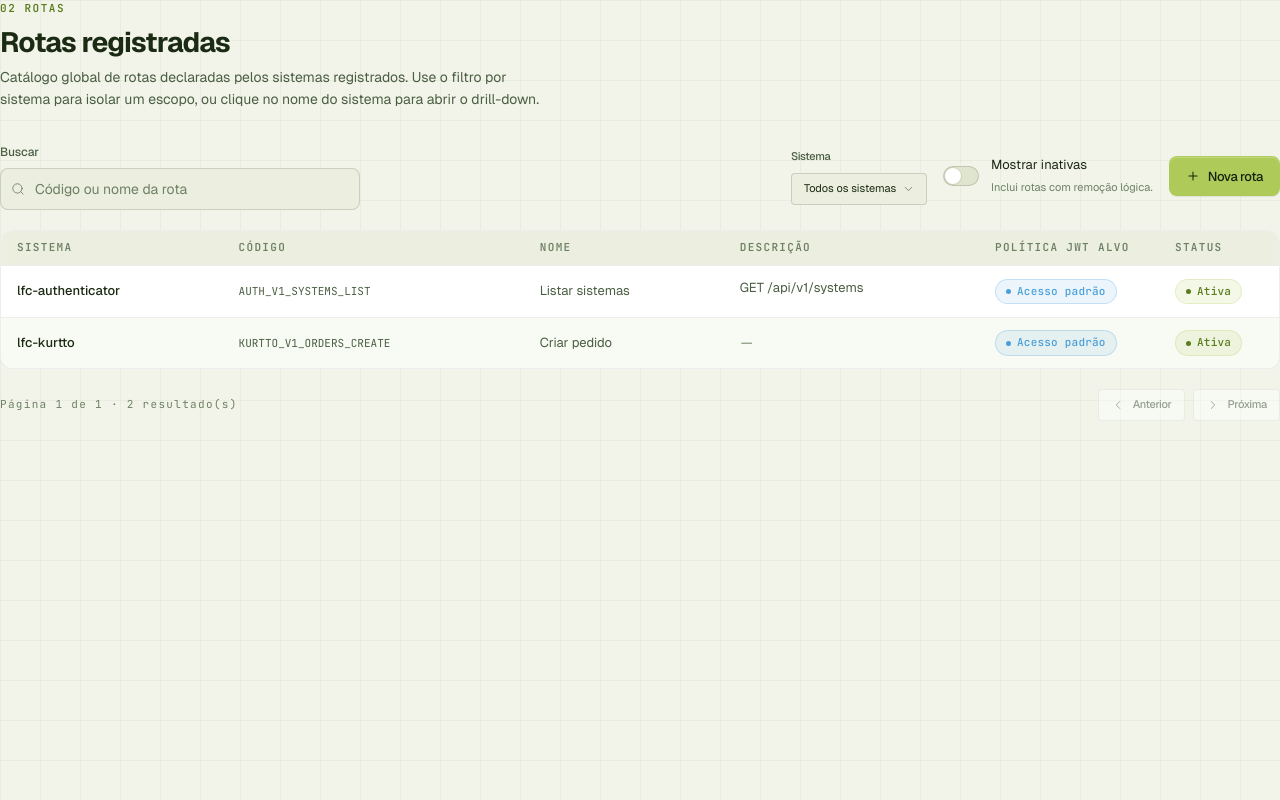
Test: RoutesGlobalListShellPage — botão "Nova rota" (Issue #187) › validação e submissão do modal global › 409 (code duplicado) exibe mensagem inline no campo code
The width and height of the screenshot is (1280, 800).
Click the button with test id "routes-global-create-open".
click(1224, 176)  # box [1169, 156, 1279, 196]
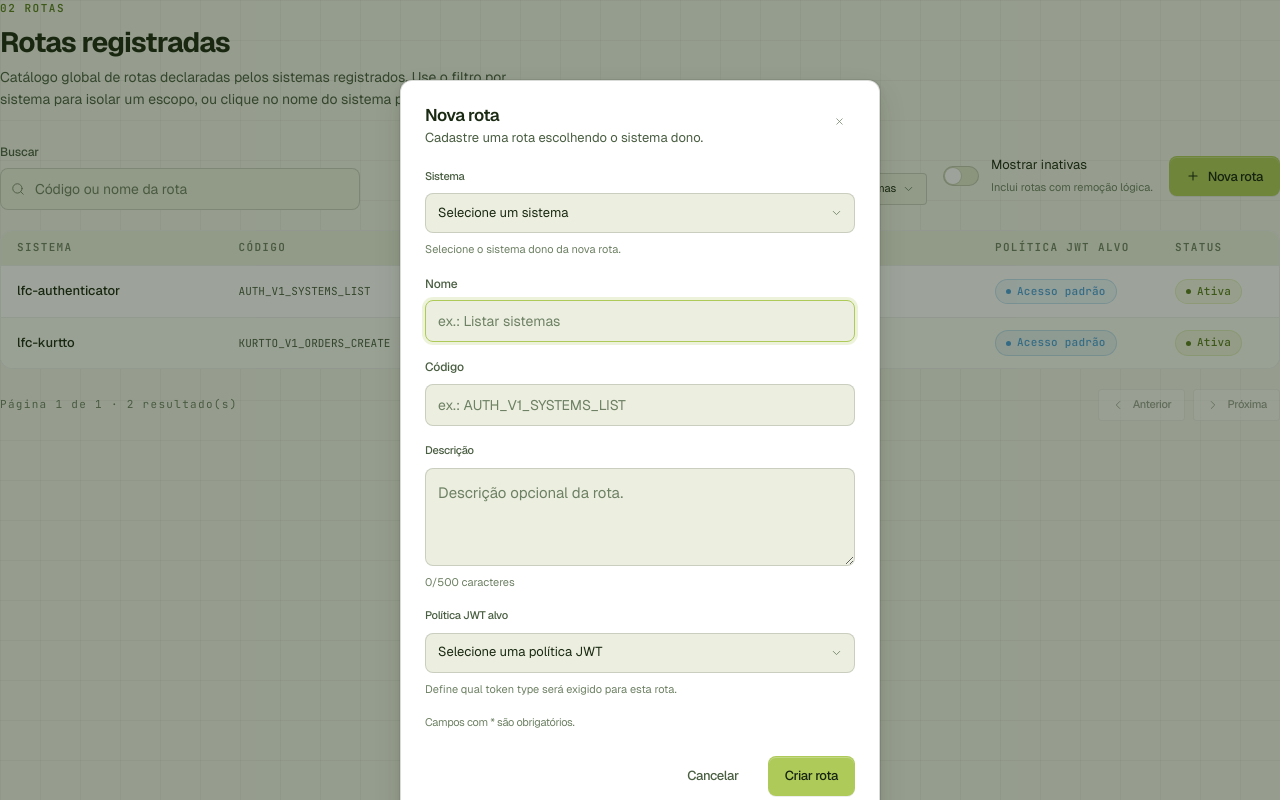
expect the form with test id "new-route-form" is shown: met, box [425, 168, 855, 796]
expect the dropdown with test id "new-route-system-id" is enabled: met
expect the dropdown with test id "new-route-system-token-type-id" is enabled: met, box [425, 633, 855, 673]
Select "lfc-authenticator" in the dropdown with test id "new-route-system-id" at x=640, y=213, box [425, 193, 855, 233]
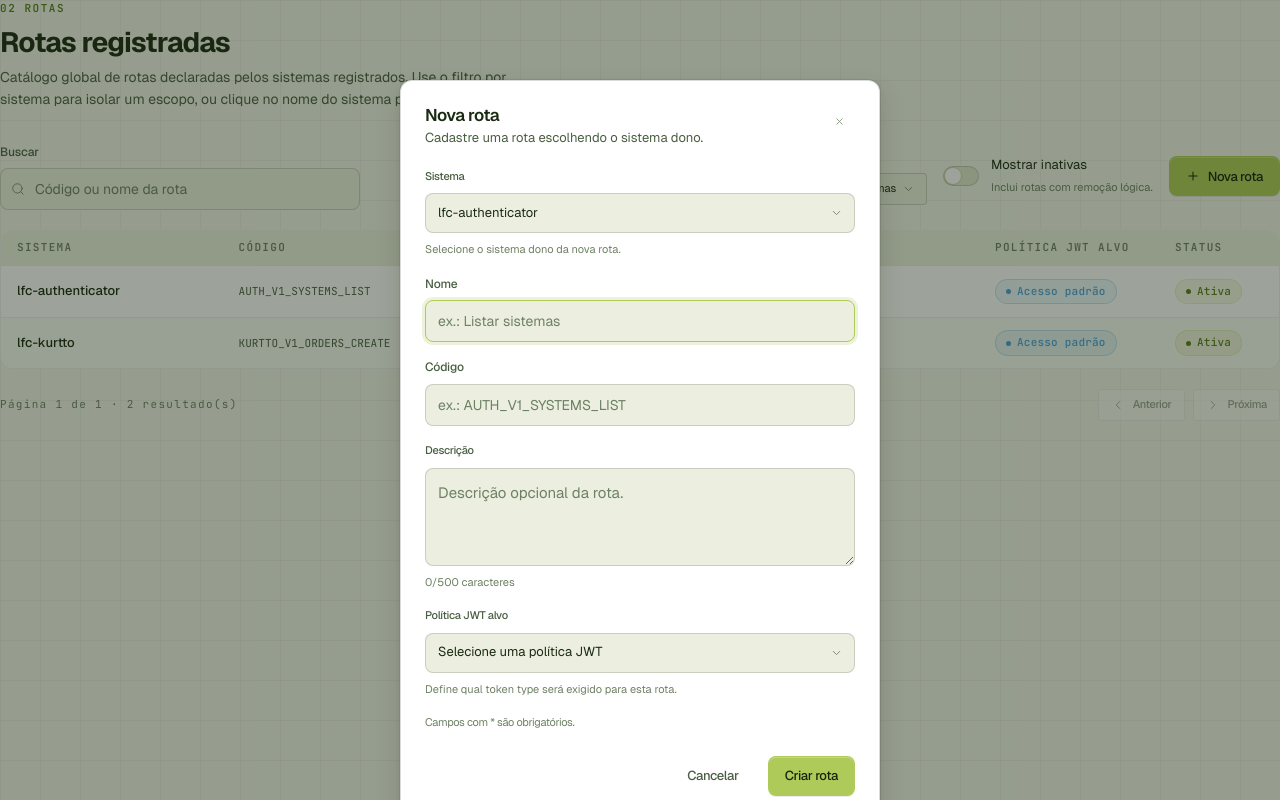
Type "Conflito" into the field with test id "new-route-name".
click(640, 321); type("Conflito")  # box [425, 300, 855, 342]
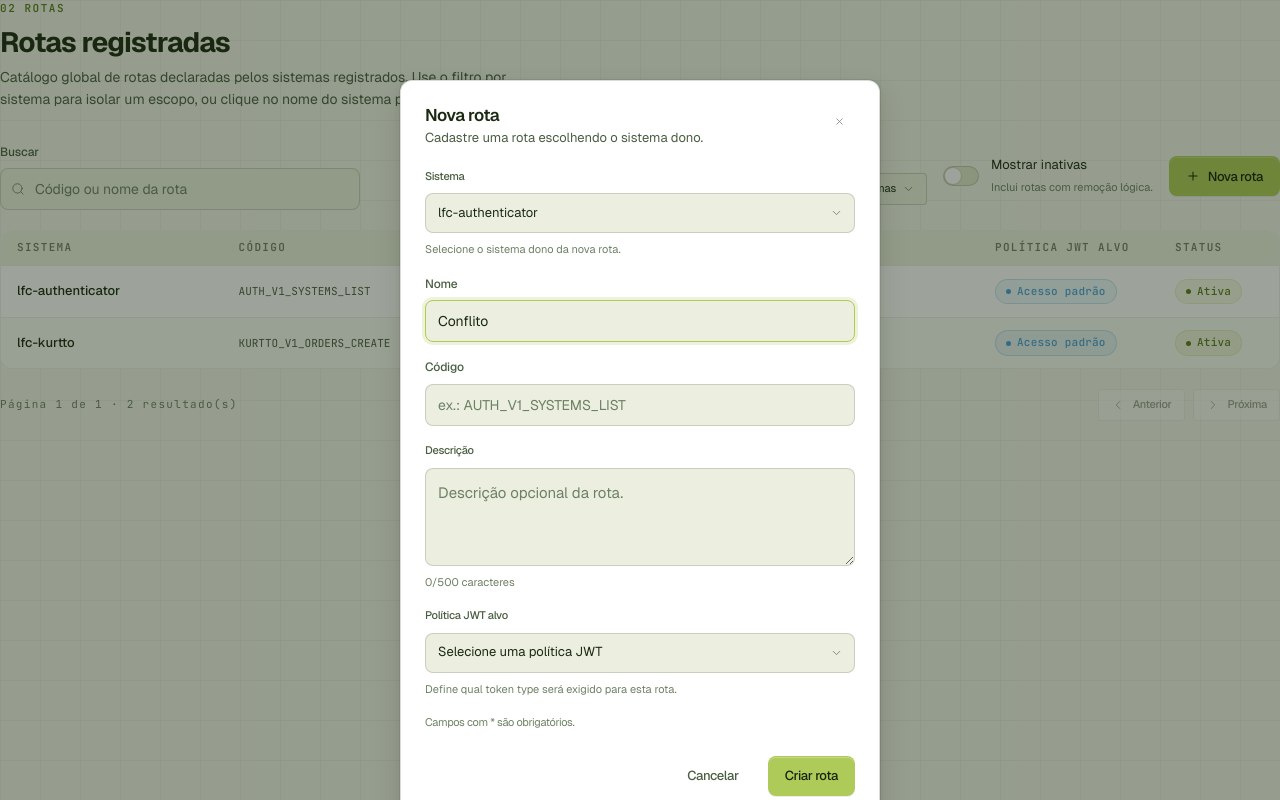
Type "CONFLICT_CODE" into the field with test id "new-route-code".
click(640, 405); type("CONFLICT_CODE")  # box [425, 384, 855, 426]
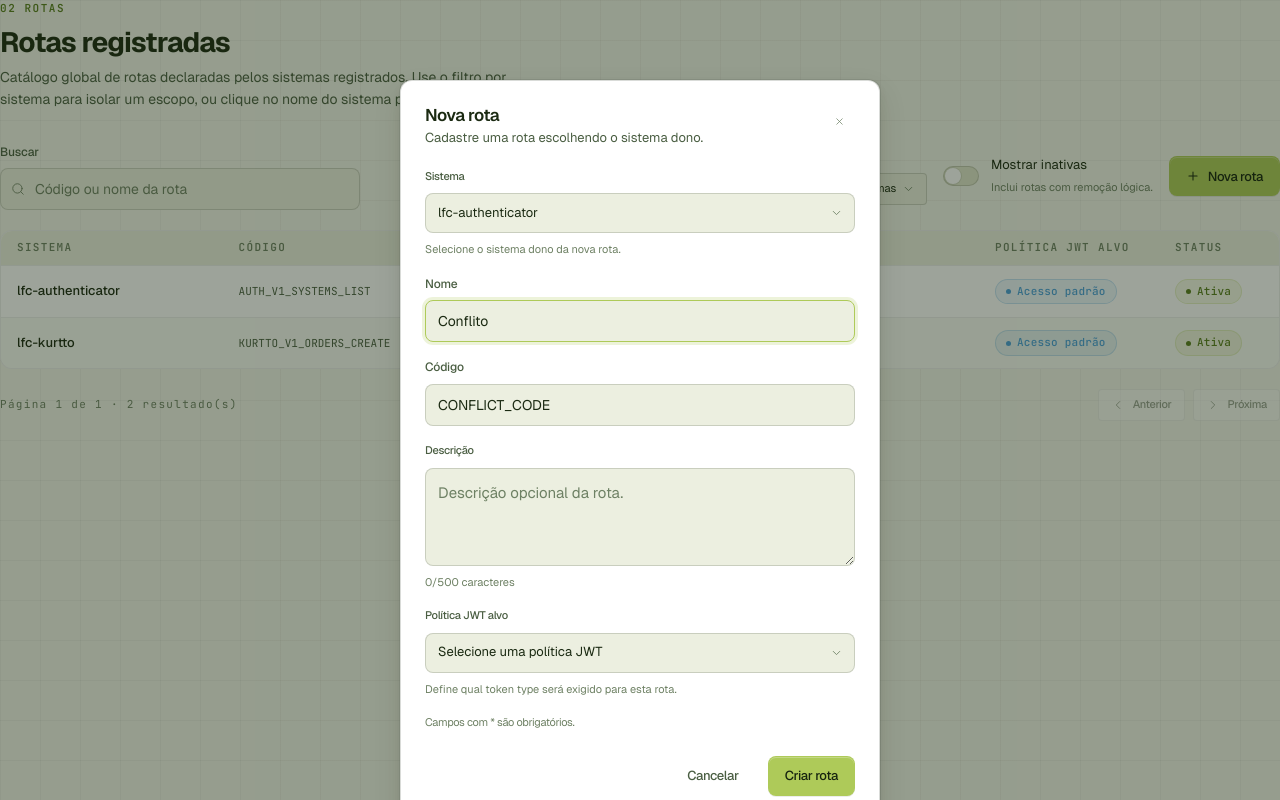
Select "Acesso padrão" in the dropdown with test id "new-route-system-token-type-id" at x=640, y=653, box [425, 633, 855, 673]
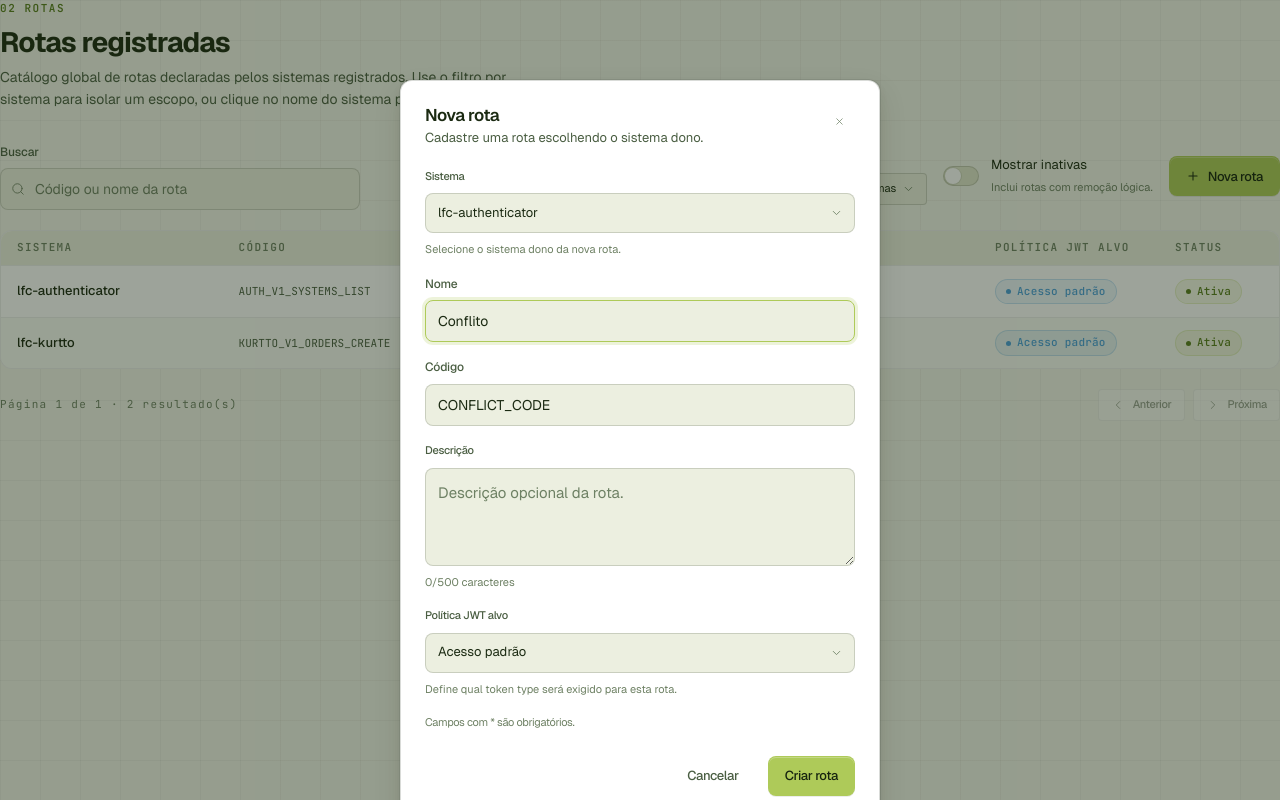
Submit the form with test id "new-route-form", box [425, 168, 855, 796]
(page scrolled)
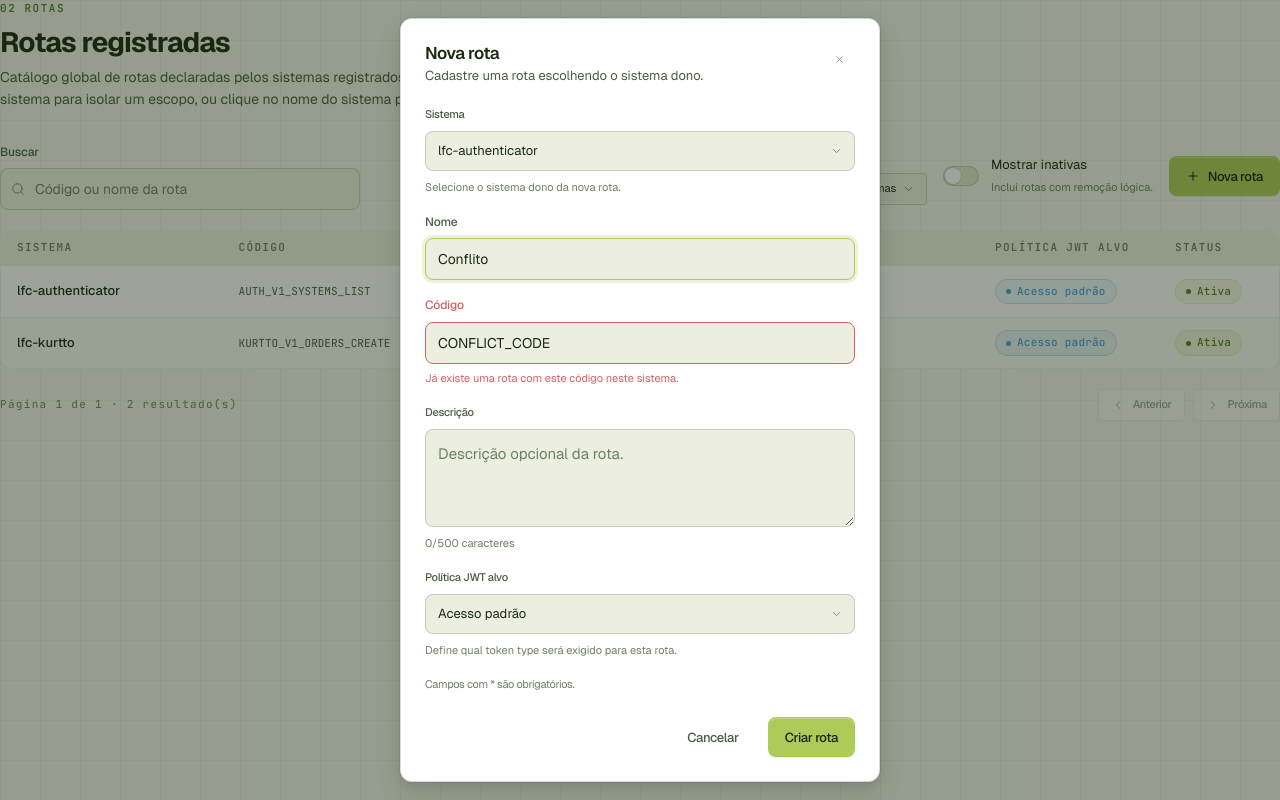
expect the dialog is shown: met, box [400, 18, 880, 782]
expect the text "Já existe uma rota com este código neste sistema." is shown: met, box [425, 371, 678, 385]
